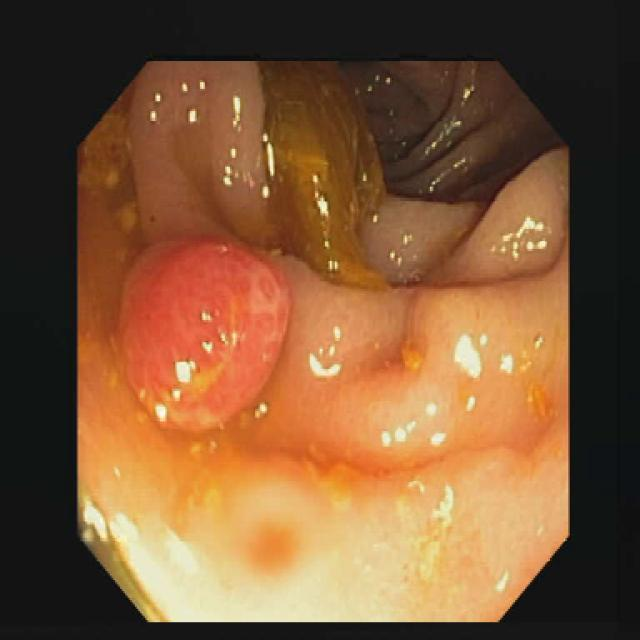tumor: (122, 242, 273, 420)
